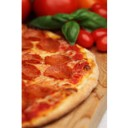pepperonipizza: (23, 26, 100, 126)
